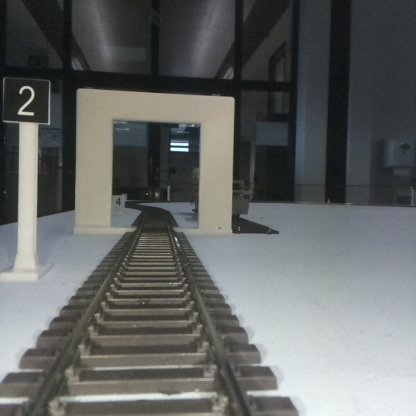black-info-2: (3, 77, 49, 279)
white-stop-4: (112, 194, 124, 214)
